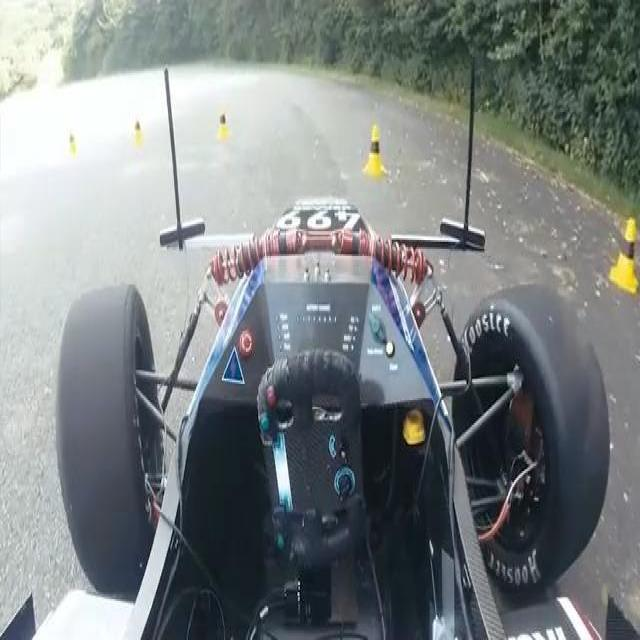yellow_cone: (603, 201, 640, 306), (358, 114, 393, 181), (205, 91, 237, 134), (124, 103, 149, 141), (58, 116, 80, 156)
